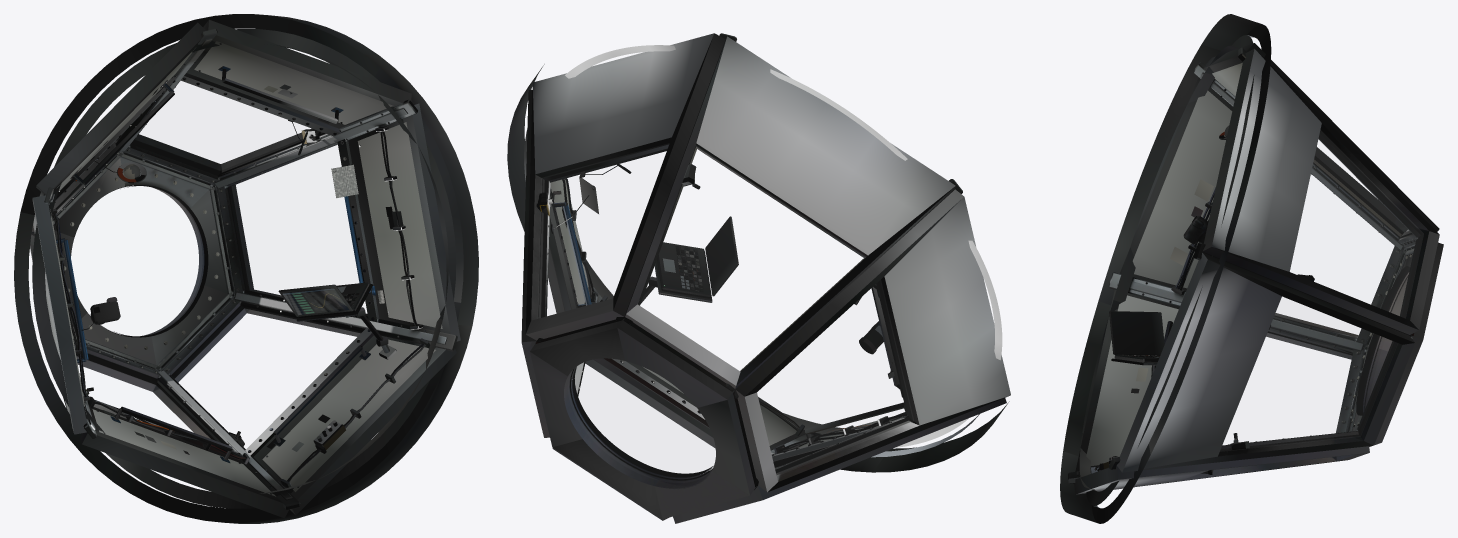
The model's file is cupola.glb.
3 views of the same model, side by side, from view 1: azimuth 30°, elevation 25°; view 2: azimuth 150°, elevation 25°; view 3: azimuth 270°, elevation 25° (orthographic). The views are drawn at different scales.
Parts seen in each view (by area): view 1: cupola.frame, float.3, float.1, float.4; view 2: cupola.frame; view 3: cupola.frame, float.1.
Part boxes in pixels (left/top/right/bottom): cupola.frame: left=14, top=14, right=478, bottom=523; float.3: left=331, top=164, right=358, bottom=198; float.1: left=74, top=297, right=120, bottom=332; float.4: left=90, top=156, right=146, bottom=183; cupola.frame: left=507, top=33, right=1010, bottom=523; cupola.frame: left=1060, top=14, right=1443, bottom=523; float.1: left=1183, top=216, right=1208, bottom=244.
Bounding box in the file's own units: 2.67 × 2.56 × 1.95.
Materials: 2 (1 with a texture image).
